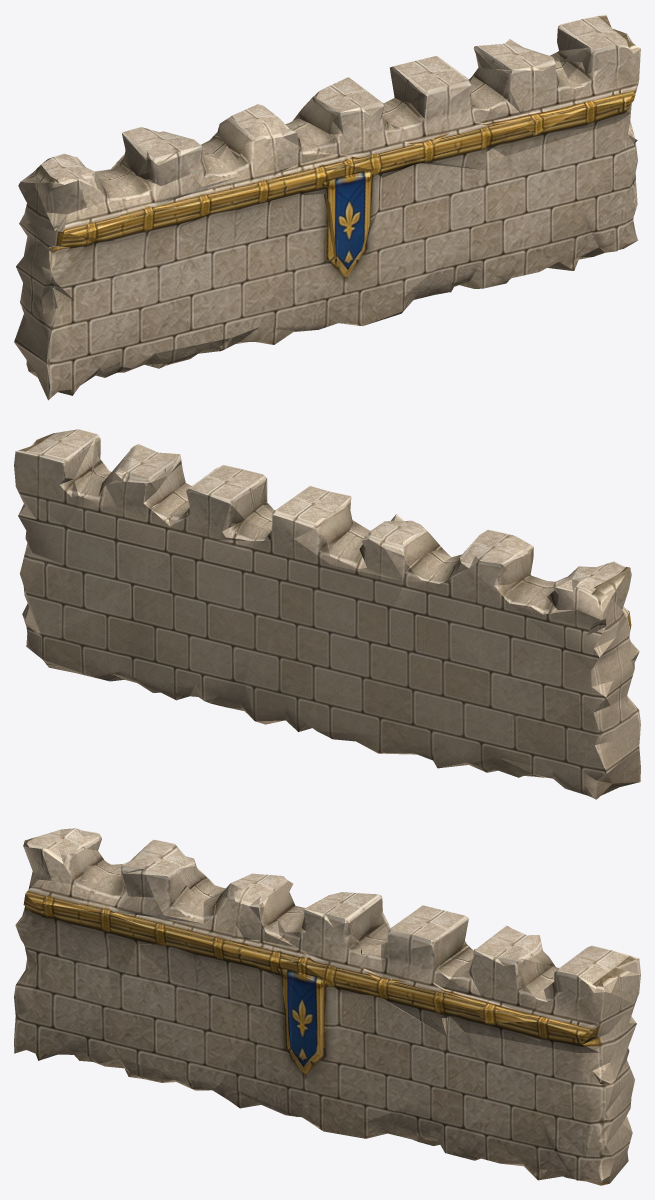
The model's file is royal_wall.glb.
3 renders of one model, top to bottom at view 1: azimuth 30°, elevation 25°; view 2: azimuth 150°, elevation 25°; view 3: azimuth 330°, elevation 25°, orthographic.
Visible parts, largest first — view 1: output_unwrapped; view 2: output_unwrapped; view 3: output_unwrapped.
Boxes of the visible parts, left/top/right/bottom form: output_unwrapped: left=14, top=14, right=640, bottom=400; output_unwrapped: left=14, top=429, right=640, bottom=799; output_unwrapped: left=14, top=828, right=640, bottom=1185.
Size of the model in its own units: 1.9 by 0.67 by 0.238.
Materials: 1 (1 with a texture image).
